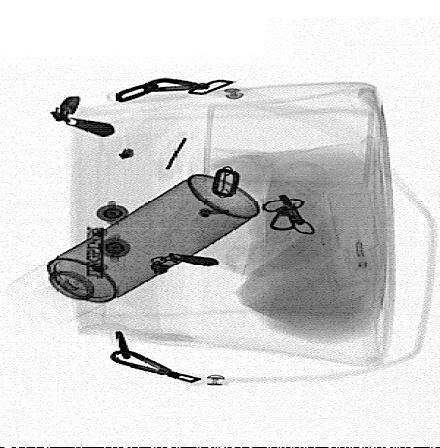Sprayer: (7, 175, 262, 325)
